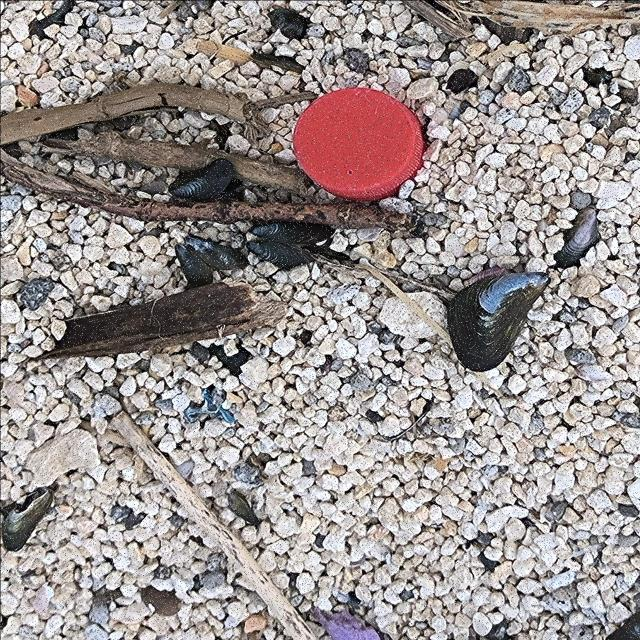plastic_waste: (292, 86, 428, 204)
